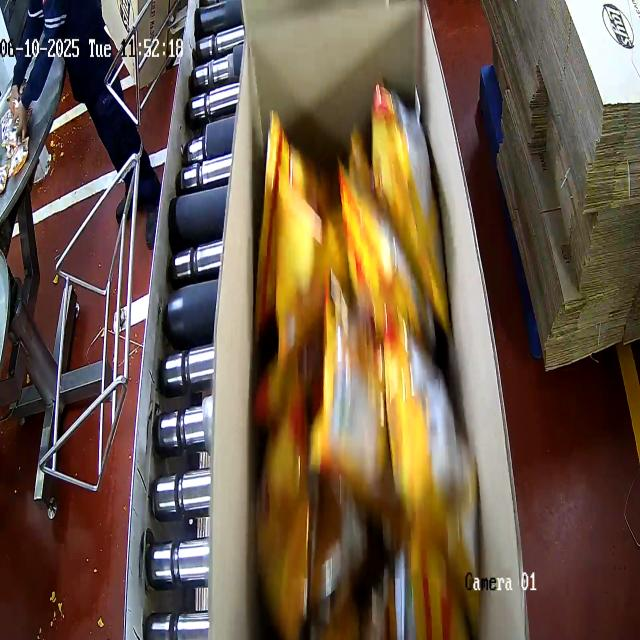FRENCH_CHEESE: (253, 75, 459, 640)
